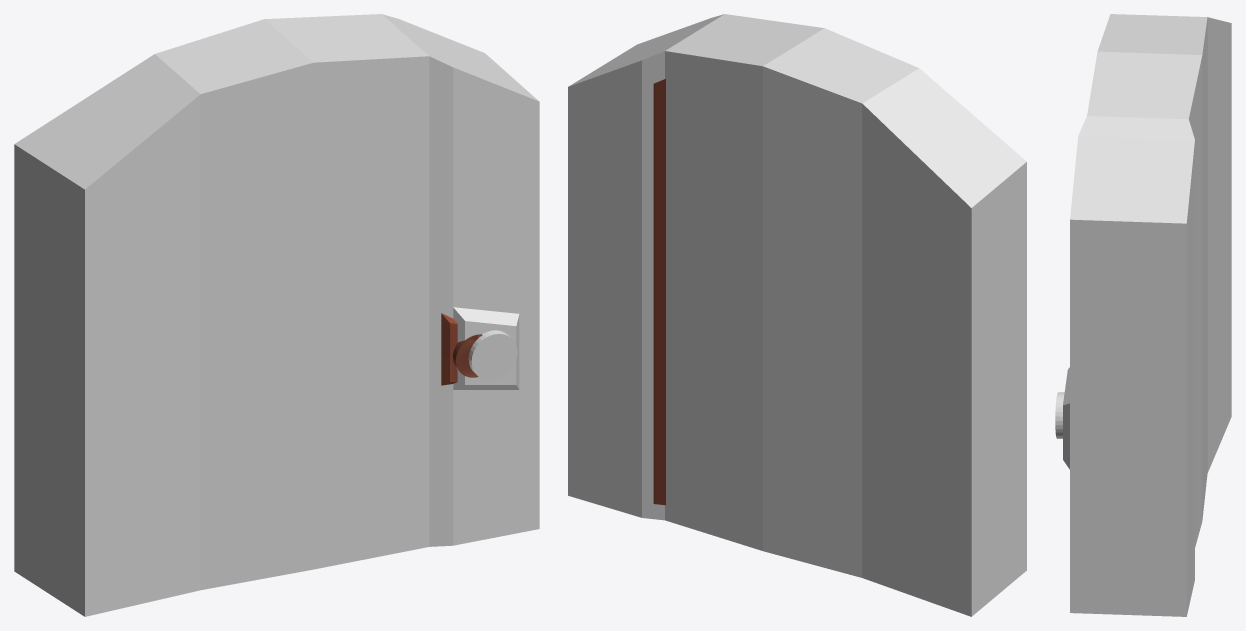
The model's file is Modelado_Puerta_Contorno_001.glb.
3 views of the same model, side by side, from view 1: azimuth 30°, elevation 25°; view 2: azimuth 150°, elevation 25°; view 3: azimuth 270°, elevation 25° (orthographic). The views are drawn at different scales.
Visible parts, largest first — view 1: Puerta_Contorno, Puerta; view 2: Puerta_Contorno, Puerta; view 3: Puerta_Contorno.
Boxes of the visible parts, <box> form: Puerta_Contorno: <box>14,14,539,616</box>; Puerta: <box>441,313,482,385</box>; Puerta_Contorno: <box>568,14,1026,616</box>; Puerta: <box>653,79,665,505</box>; Puerta_Contorno: <box>1055,14,1231,616</box>.
Size of the model in its own units: 12.9 by 14 by 4.8.
2 materials, 1 textured.
